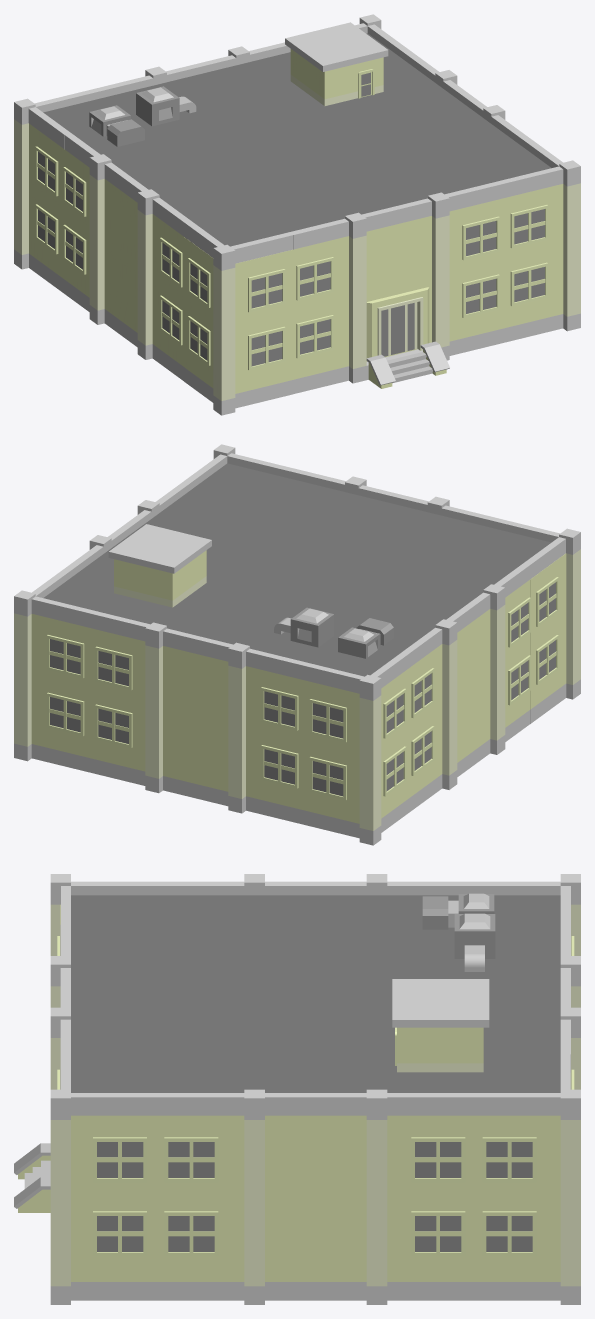
Rendered from greenBuilding.fbx.
The picture shows the model from 3 angles, top to bottom: view 1: azimuth 30°, elevation 25°; view 2: azimuth 150°, elevation 25°; view 3: azimuth 270°, elevation 25°; orthographic projection. The views are drawn at different scales.
Parts seen in each view (by area): view 1: polySurface3384; view 2: polySurface3384; view 3: polySurface3384.
Boxes of the visible parts, x1=… form: polySurface3384: x1=14, y1=14, x2=580, y2=415; polySurface3384: x1=14, y1=444, x2=580, y2=845; polySurface3384: x1=14, y1=874, x2=580, y2=1304.
Size of the model in its own units: 1116 by 576 by 1192.
